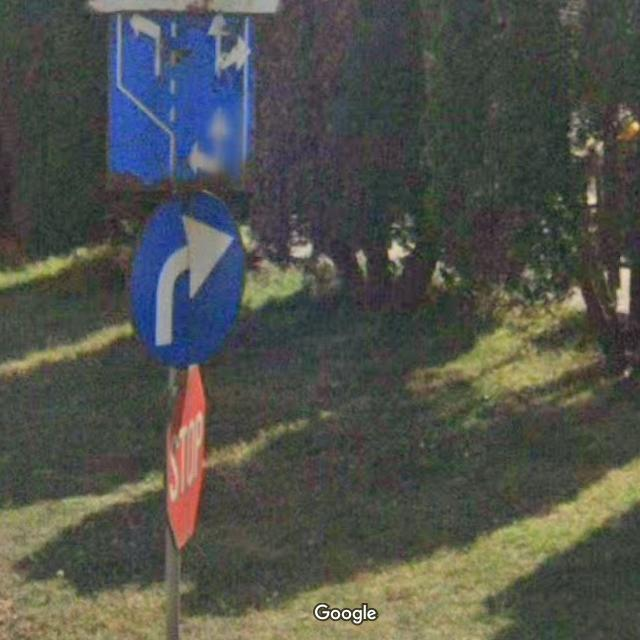prio_stop: (163, 366, 211, 548)
